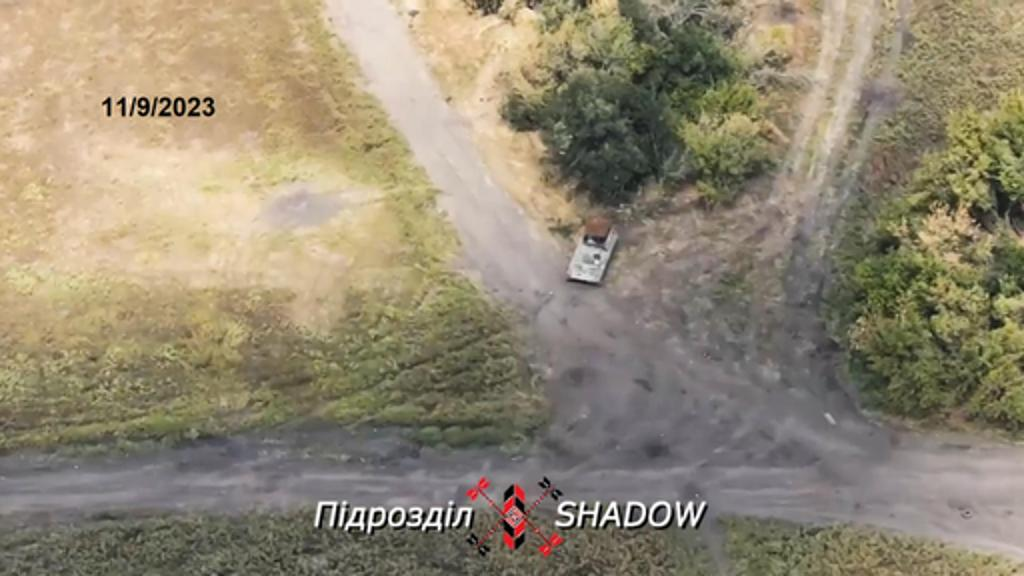APC-IFV: (560, 206, 620, 292)
